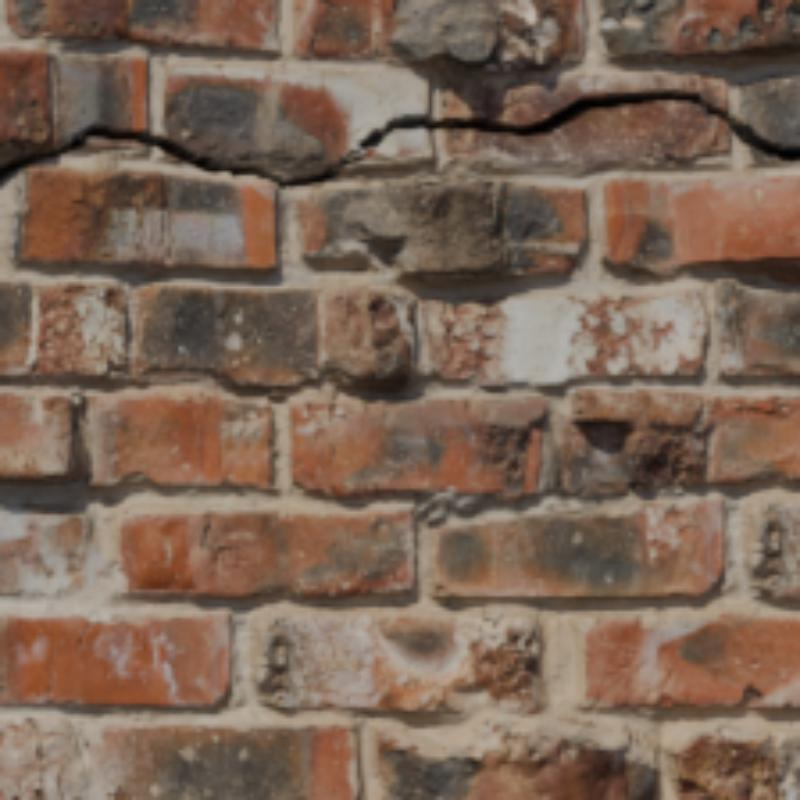crack: (0, 89, 796, 186)
